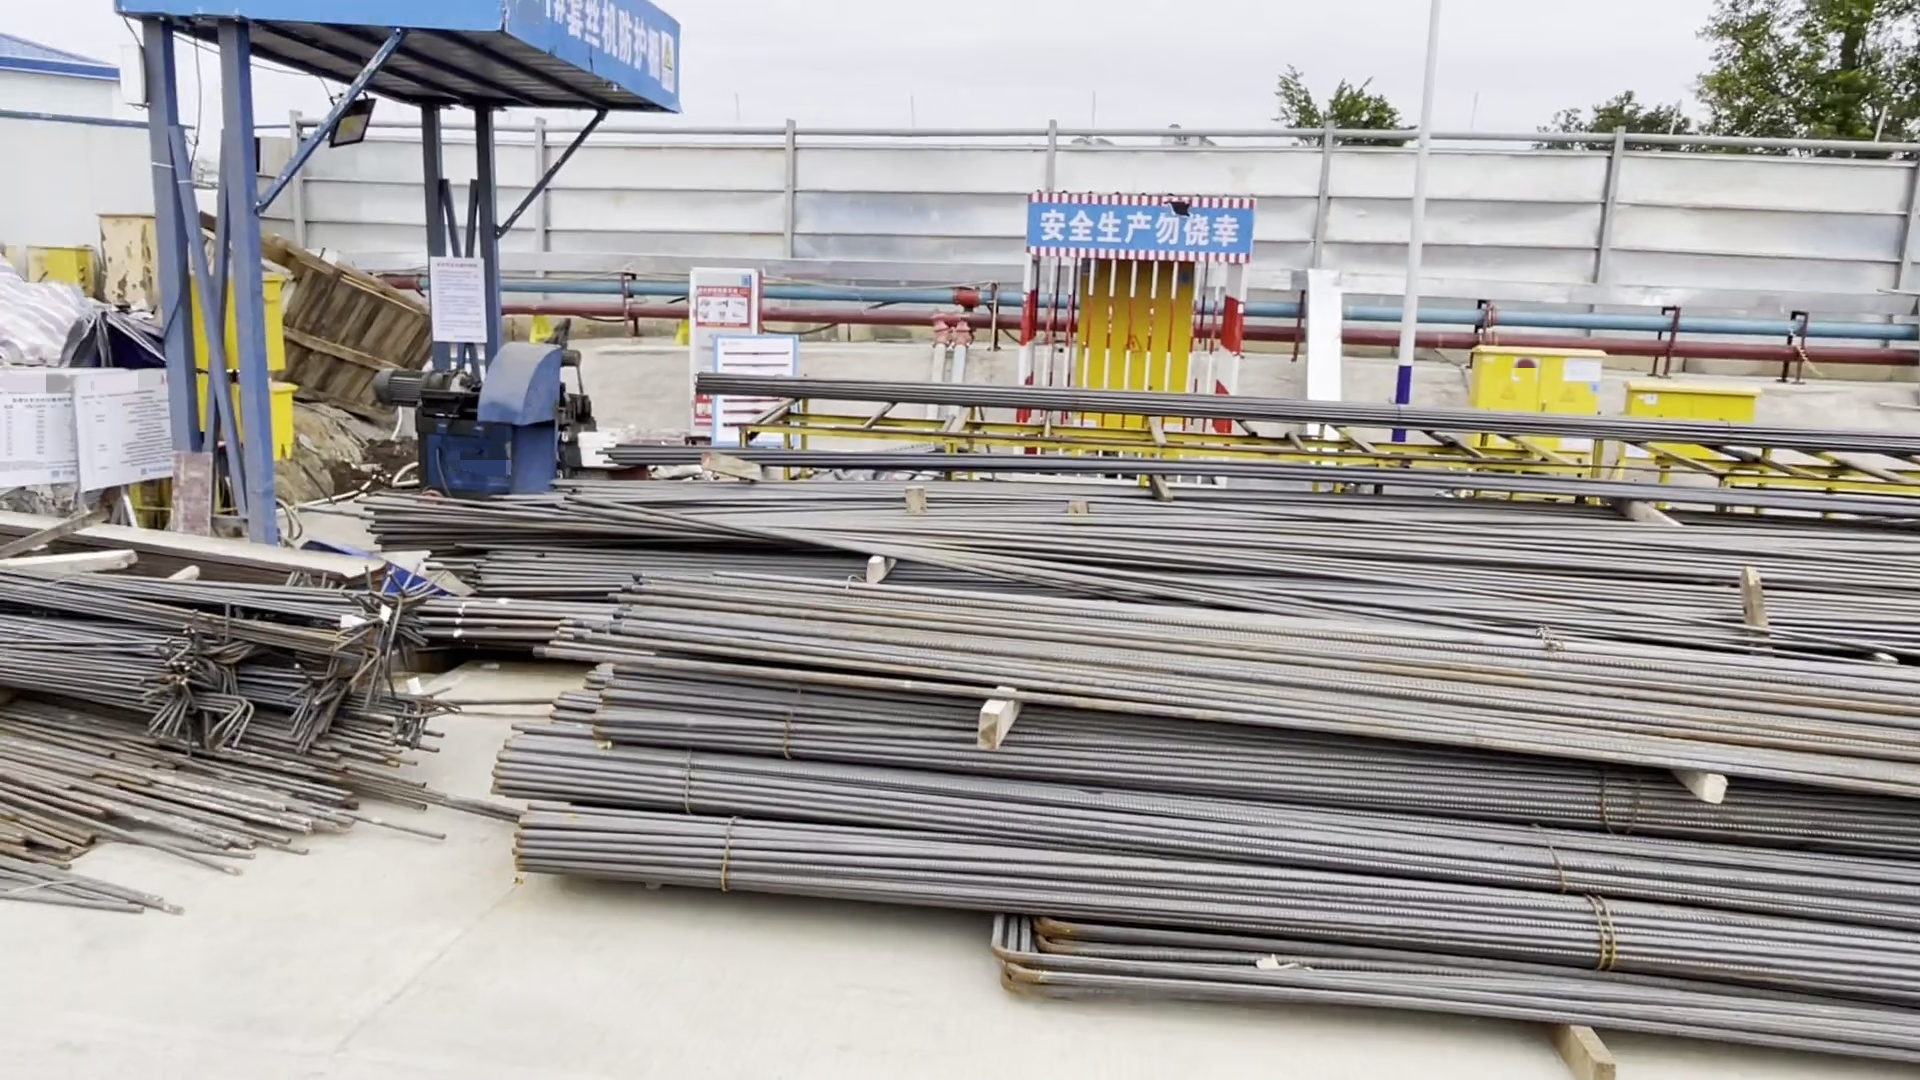ebox: (1069, 255, 1193, 440), (187, 277, 305, 454), (1462, 344, 1606, 435), (1621, 384, 1754, 462)
fence: (442, 116, 1888, 315)
rebar: (508, 458, 1920, 1080)
slogan: (517, 1, 682, 96), (1025, 200, 1258, 262)
